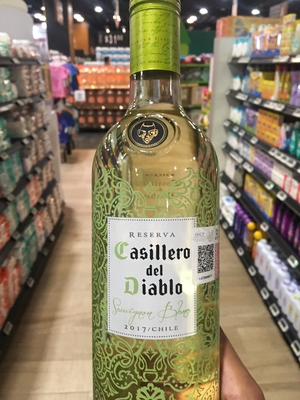casillero del diablo sauvignon blanc: (90, 18, 237, 400)
